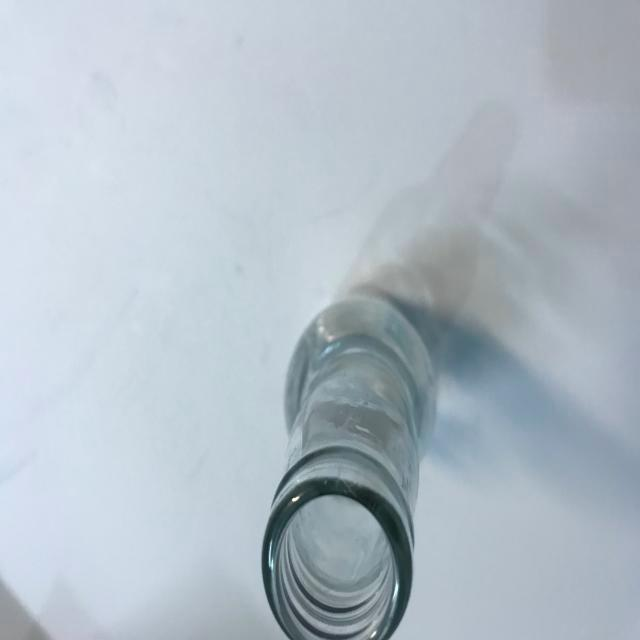glass: (260, 291, 443, 640)
